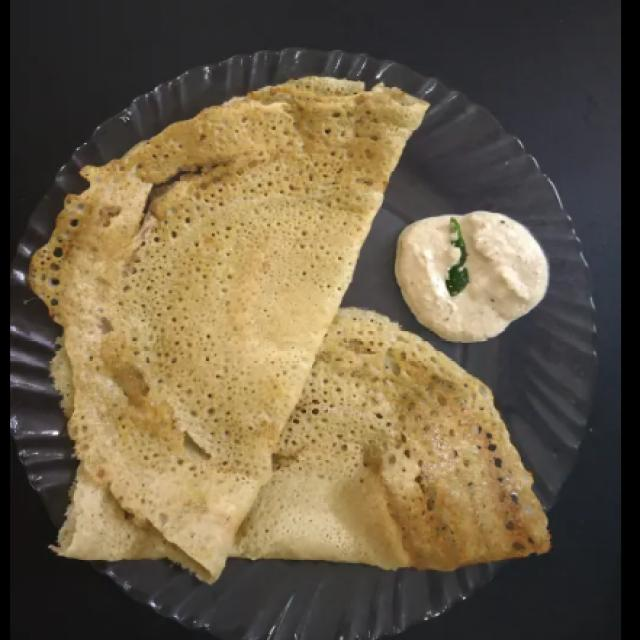DOSA: (51, 81, 553, 585)
WHITE CHUTNEY: (392, 213, 554, 349)
